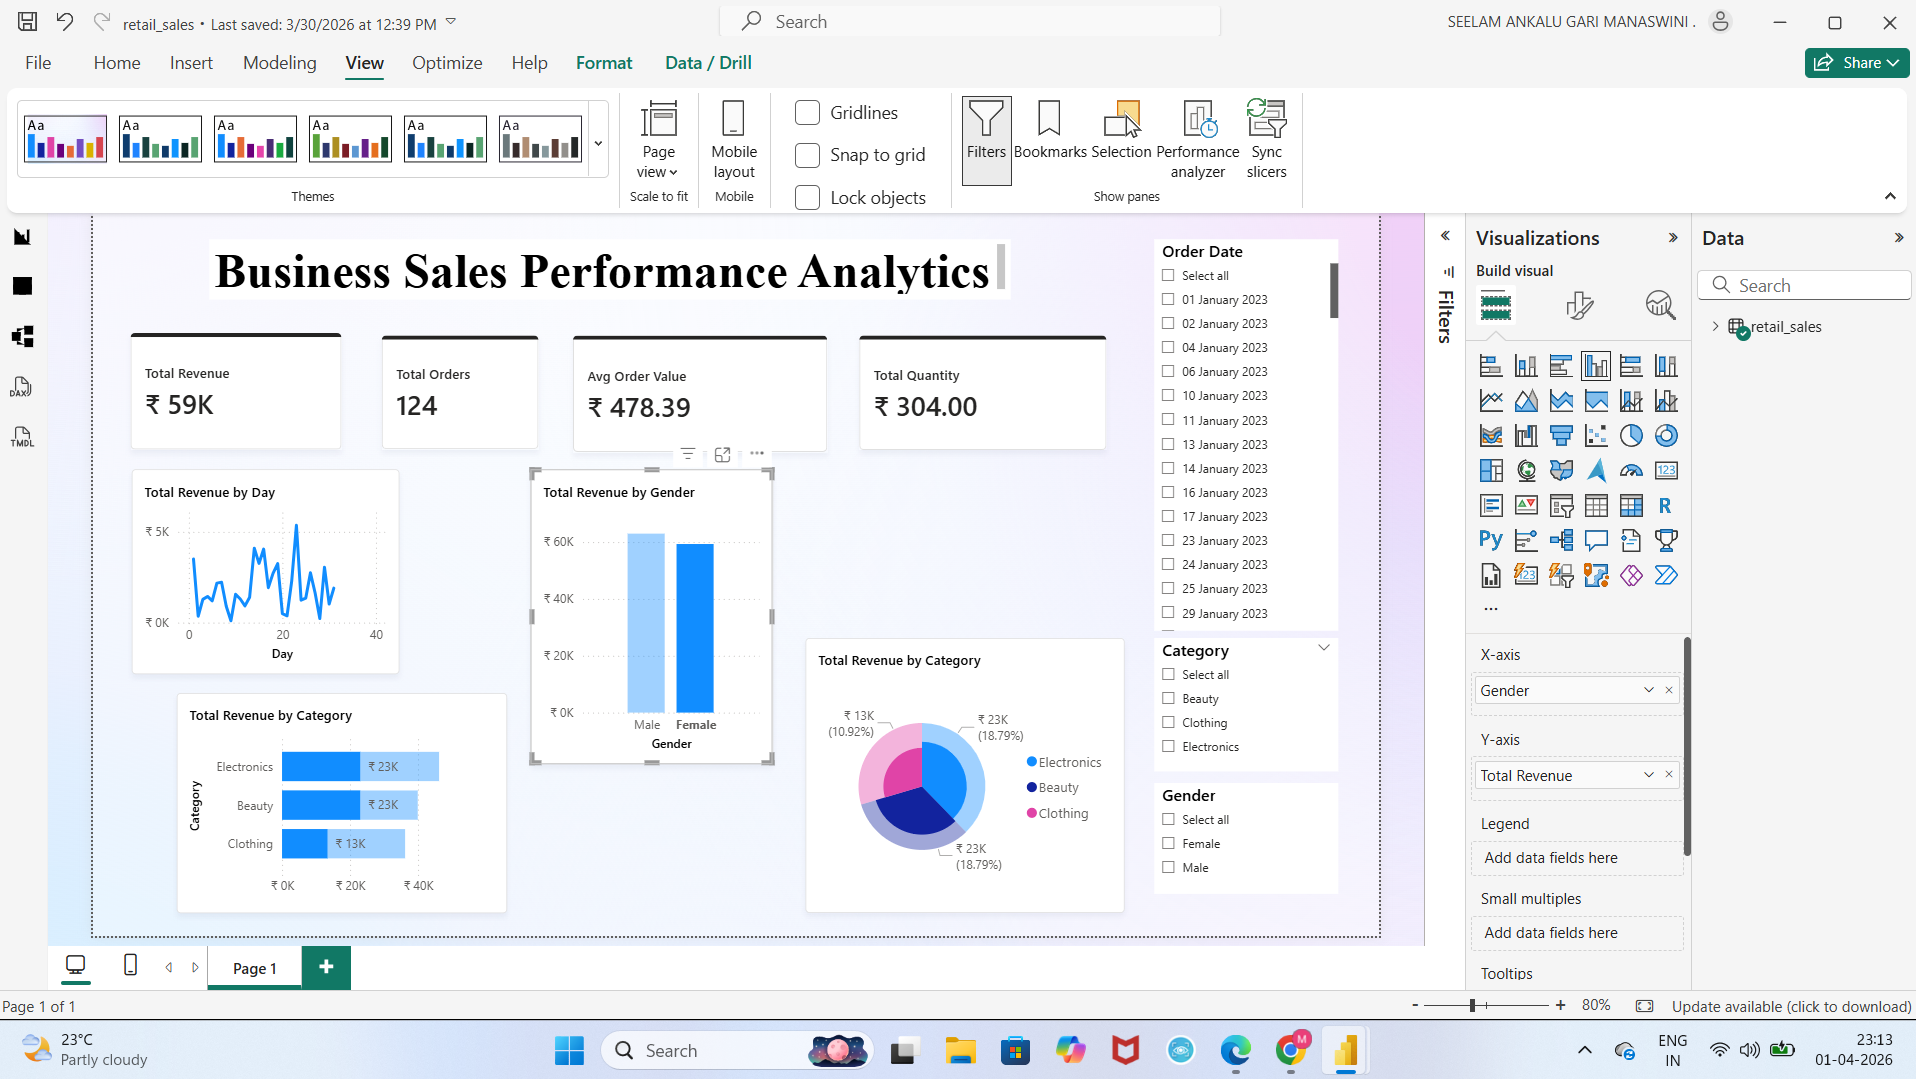

What the dashboard file says about the page in this screenshot:
{"tool":"powerbi","page":{"name":"Page 1","canvas":[1280,720],"ordinal":0},"visuals":[{"type":"lineChart","fields":{"Category":["retail_sales.Order Date.Variation.Date Hierarchy.Year","retail_sales.Order Date.Variation.Date Hierarchy.Quarter","retail_sales.Order Date.Variation.Date Hierarchy.Month","retail_sales.Order Date.Variation.Date Hierarchy.Day"],"Y":["retail_sales.Total Revenue"]},"box":[38.6,255,266.2,204],"z":0},{"type":"clusteredBarChart","fields":{"Category":["retail_sales.Category"],"Y":["retail_sales.Total Revenue"]},"box":[83.3,477.7,328.4,218.9],"z":1000},{"type":"pieChart","fields":{"Category":["retail_sales.Category"],"Y":["retail_sales.Total Revenue"]},"box":[709.1,422.9,317.2,273.7],"z":2000},{"type":"clusteredColumnChart","fields":{"Category":["retail_sales.Gender"],"Y":["retail_sales.Total Revenue"]},"box":[435.4,255,241.3,293.6],"z":3000},{"type":"cardVisual","fields":{"Data":["retail_sales.Total Revenue"]},"box":[37.3,119.4,210.2,116.9],"z":4000},{"type":"cardVisual","fields":{"Data":["retail_sales.Total Orders"]},"box":[287.4,121.9,156.7,113.2],"z":5000},{"type":"cardVisual","fields":{"Data":["retail_sales.Avg Order Value"]},"box":[477.7,121.9,253.8,116.9],"z":6000},{"type":"cardVisual","fields":{"Data":["retail_sales.Total Quantity"]},"box":[762.5,121.9,246.3,114.4],"z":7000},{"type":"slicer","fields":{"Values":["retail_sales.Category"]},"box":[1056.1,422.9,182.9,133.1],"z":8000},{"type":"slicer","fields":{"Values":["retail_sales.Gender"]},"box":[1056.1,567.2,182.9,110.7],"z":9000},{"type":"slicer","fields":{"Values":["retail_sales.Order Date"]},"box":[1056.1,26.1,182.9,389.4],"z":10000},{"type":"textbox","box":[115.7,26.1,797.4,59.7],"z":11000}]}

Visuals, with their boxes on the page's 1280x720 design canvas (x1, y1, x2, y2). These are canvas units, not pixel positions in the 1916x1079 screenshot, which may show the page scaled, cropped or inside an application window:
lineChart - retail_sales.Order Date.Variation.Date Hierarchy.Year x retail_sales.Order Date.Variation.Date Hierarchy.Quarter: 39 255 305 459
clusteredBarChart - retail_sales.Category x retail_sales.Total Revenue: 83 478 412 697
pieChart - retail_sales.Category x retail_sales.Total Revenue: 709 423 1026 697
clusteredColumnChart - retail_sales.Gender x retail_sales.Total Revenue: 435 255 677 549
cardVisual - retail_sales.Total Revenue: 37 119 248 236
cardVisual - retail_sales.Total Orders: 287 122 444 235
cardVisual - retail_sales.Avg Order Value: 478 122 732 239
cardVisual - retail_sales.Total Quantity: 762 122 1009 236
slicer - retail_sales.Category: 1056 423 1239 556
slicer - retail_sales.Gender: 1056 567 1239 678
slicer - retail_sales.Order Date: 1056 26 1239 416
textbox: 116 26 913 86
